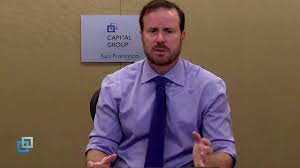F_shirt: (84, 50, 245, 166)
F_tie: (149, 79, 171, 168)
